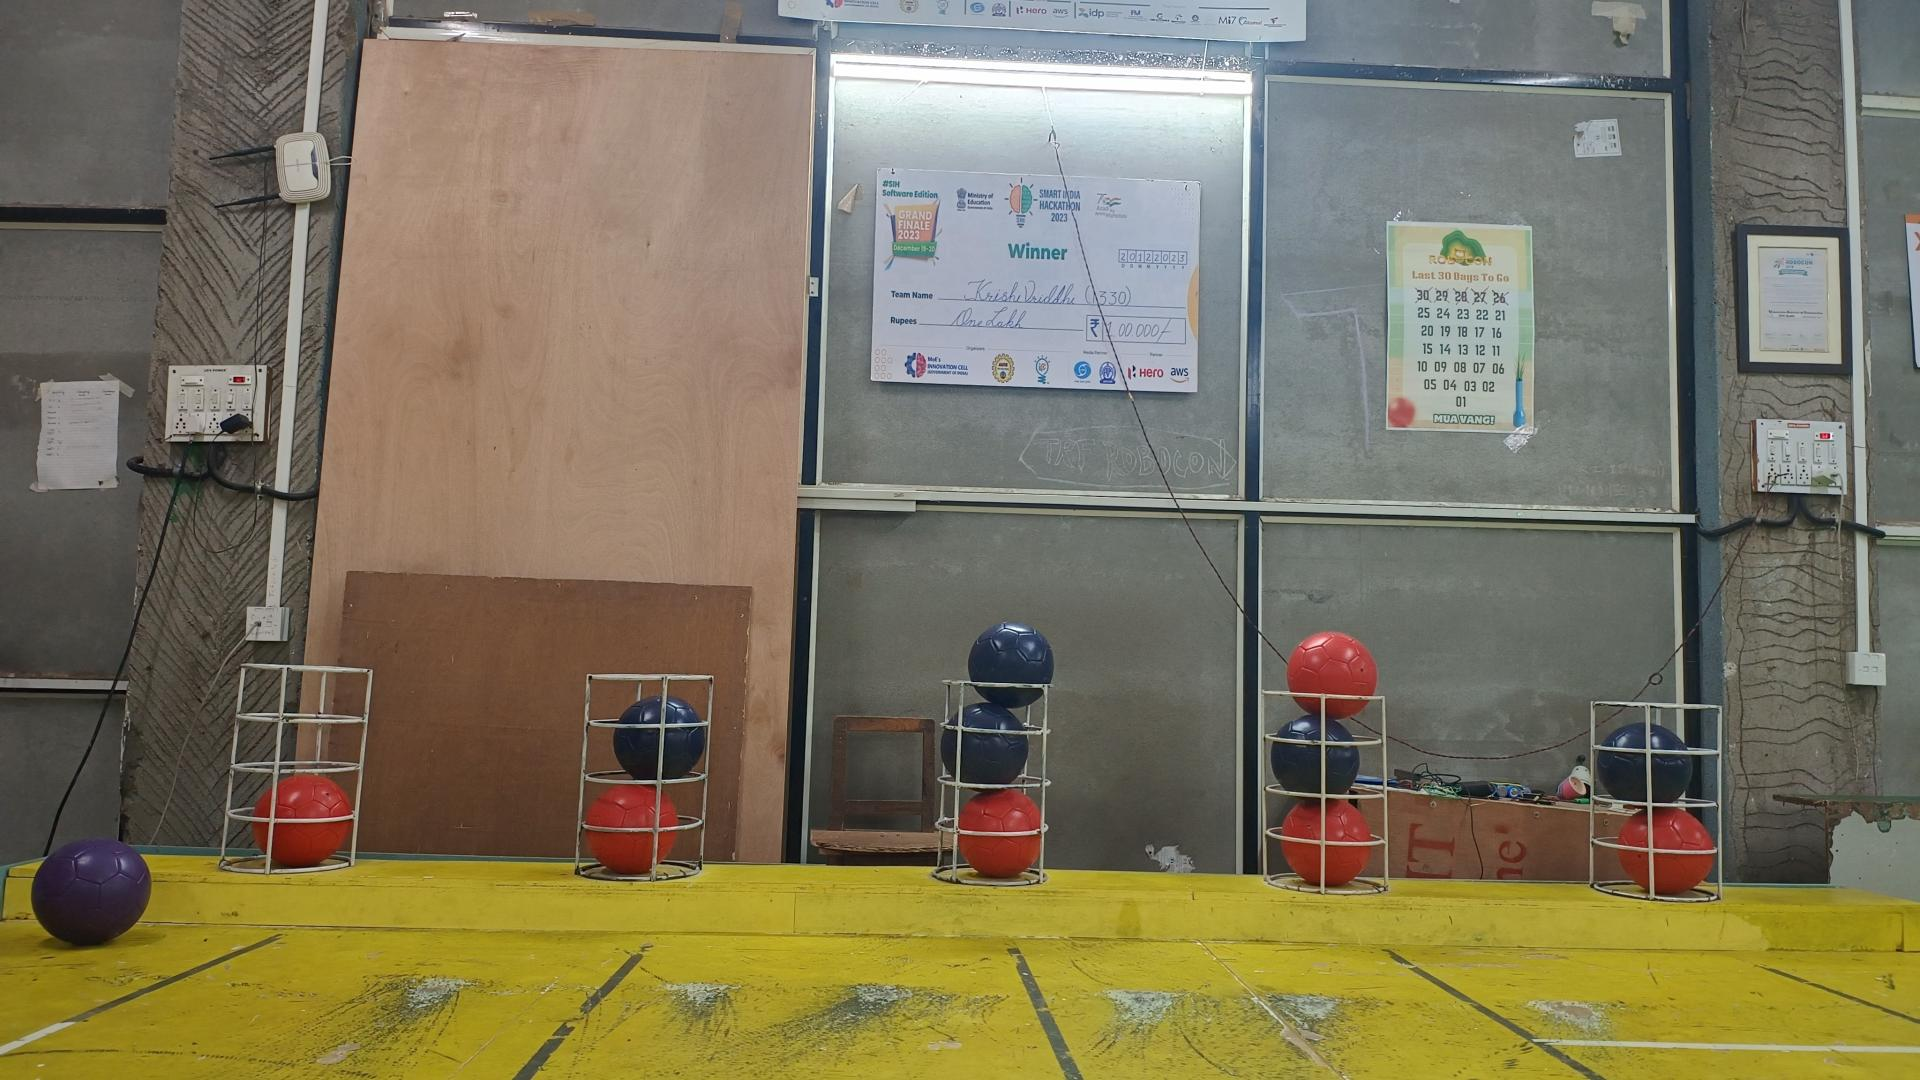dhoka: (1597, 720, 1692, 806), (615, 694, 705, 781), (1271, 712, 1361, 795), (968, 622, 1054, 708), (942, 702, 1027, 783)
laale: (252, 773, 352, 866), (1619, 806, 1714, 897), (585, 783, 679, 874), (1286, 630, 1377, 716), (1283, 799, 1373, 885), (960, 787, 1043, 877)
